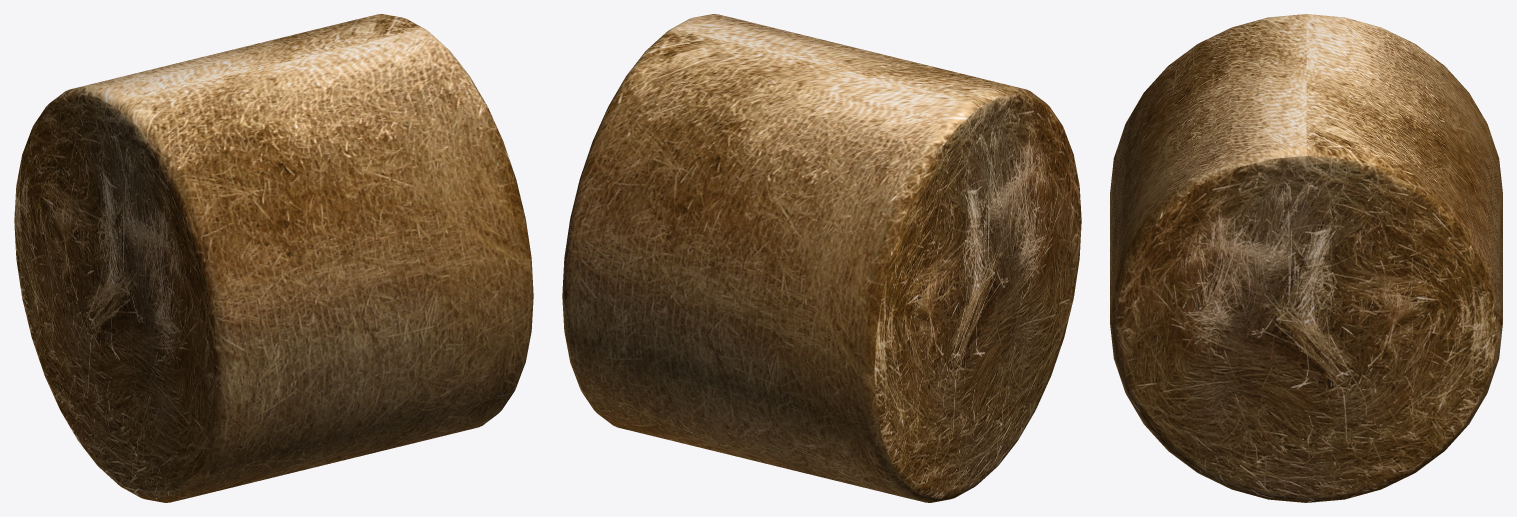
The model's file is HayRoll.fbx.
3 views of the same model, side by side, from view 1: azimuth 30°, elevation 25°; view 2: azimuth 150°, elevation 25°; view 3: azimuth 270°, elevation 25° (orthographic). The views are drawn at different scales.
Parts seen in each view (by area): view 1: HAYROLL; view 2: HAYROLL; view 3: HAYROLL.
Boxes of the visible parts, x1=… form: HAYROLL: x1=14, y1=14, x2=533, y2=502; HAYROLL: x1=562, y1=14, x2=1081, y2=502; HAYROLL: x1=1110, y1=14, x2=1502, y2=502.
Bounding box in the file's own units: 1.2 × 1.4 × 1.4.
